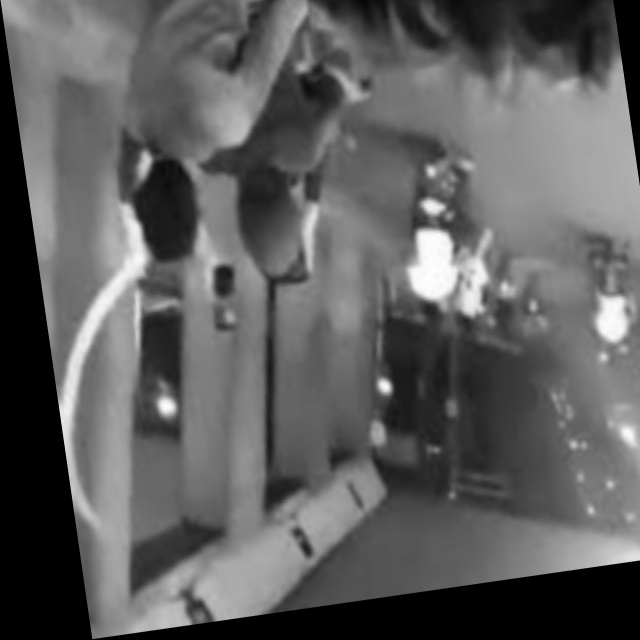Sharp-Object: (29, 182, 183, 556)
